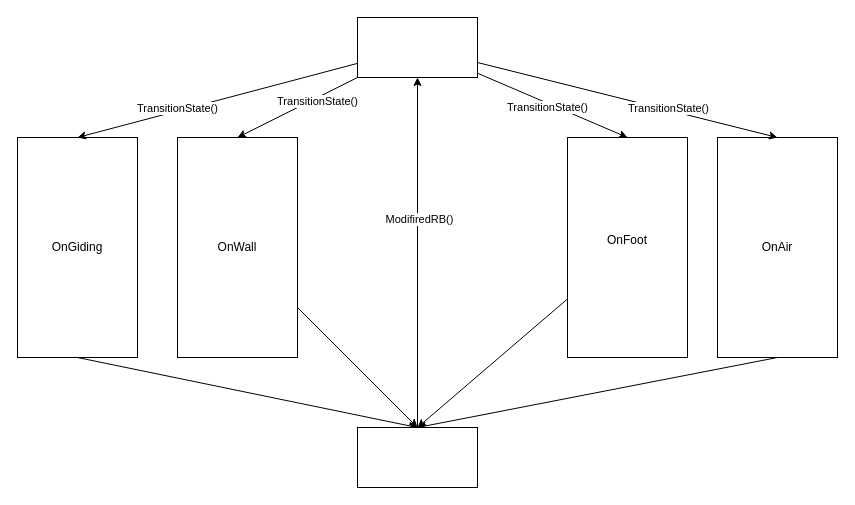
Some shapes in this 855 by 505 pixel diagram are drawn without their labels. Here are the shapes that lost their labels. From the top down, the centre of each, then its label:
point (417, 47): PlayerController
point (417, 457): RigidbodyController
